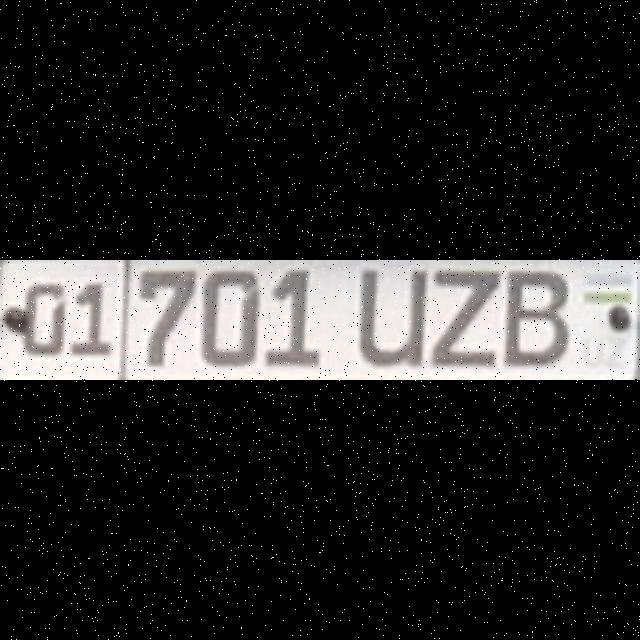0: (198, 268, 258, 364), (20, 282, 62, 356)
1: (262, 268, 316, 364), (67, 280, 106, 354)
7: (134, 268, 192, 364)
B: (500, 268, 564, 364)
U: (354, 265, 422, 363)
Z: (428, 268, 494, 364)
